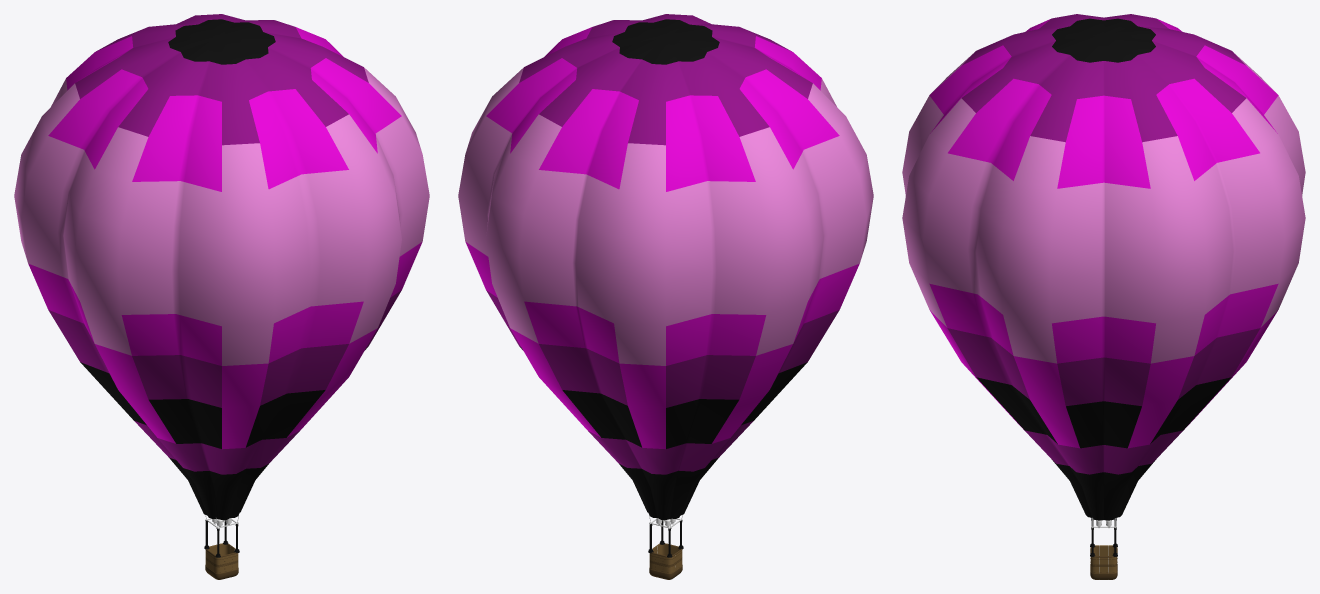
The model's file is purple.glb.
The picture shows the model from 3 angles, left to right: view 1: azimuth 30°, elevation 25°; view 2: azimuth 150°, elevation 25°; view 3: azimuth 270°, elevation 25°; orthographic projection.
Parts seen in each view (by area): view 1: Sphere, Circle; view 2: Sphere, Circle; view 3: Sphere, Circle.
Boxes of the visible parts, x1,y1,x2,y2 form: Sphere: (14, 14, 429, 519); Circle: (204, 515, 239, 579); Sphere: (458, 14, 873, 519); Circle: (648, 515, 683, 579); Sphere: (902, 14, 1305, 520); Circle: (1090, 517, 1117, 579).
Size of the model in its own units: 22.42 by 33.16 by 22.42.
